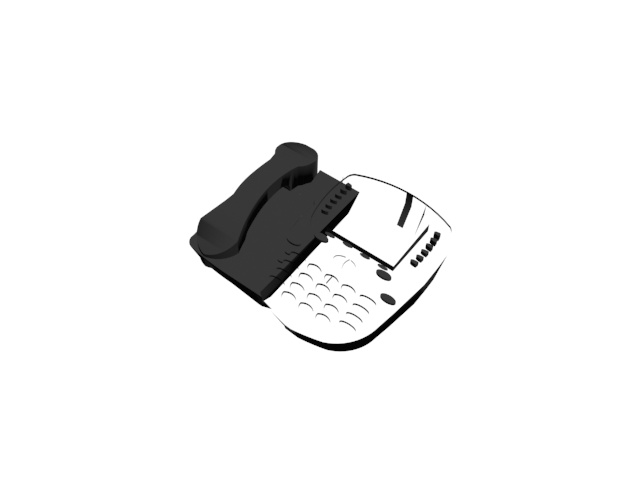phone: (185, 137, 456, 352)
